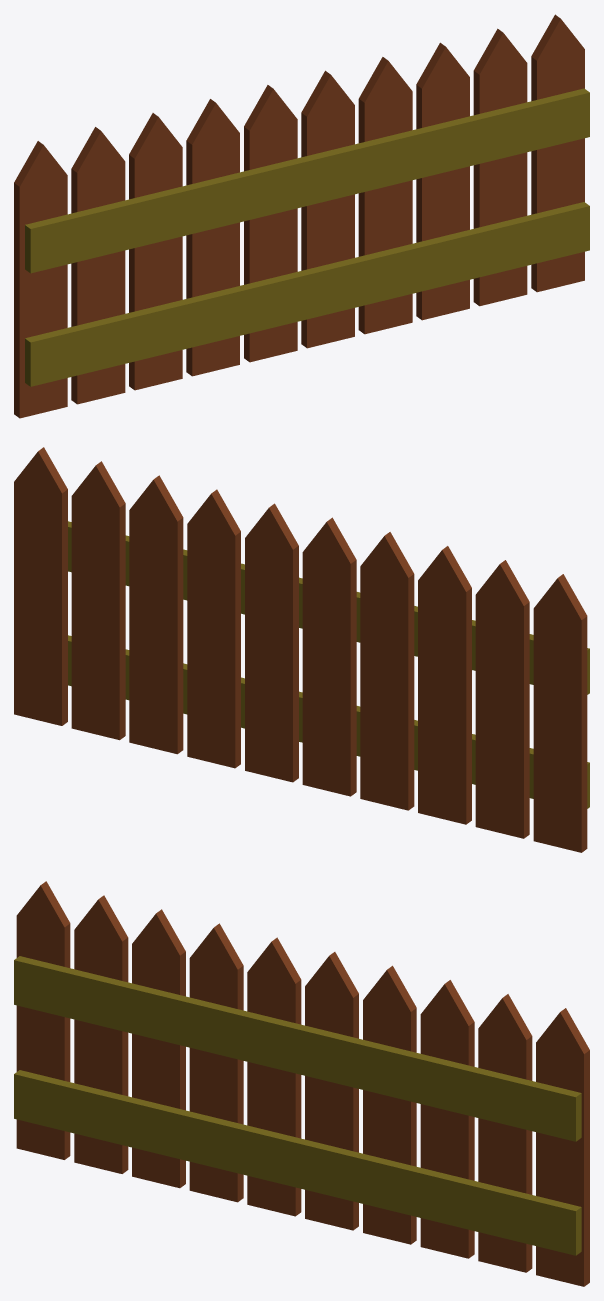
Rendered from wood_fence.obj.
3 renders of one model, top to bottom at view 1: azimuth 30°, elevation 25°; view 2: azimuth 150°, elevation 25°; view 3: azimuth 330°, elevation 25°, orthographic.
Visible parts, largest first — view 1: Cube wood_fence_model group45, wood_fence_model group45 Cube_001 Cube_001__1_; view 2: Cube wood_fence_model group45, wood_fence_model group45 Cube_001 Cube_001__1_; view 3: Cube wood_fence_model group45, wood_fence_model group45 Cube_001 Cube_001__1_.
Part boxes in pixels (bbox=[...]): Cube wood_fence_model group45: bbox=[14, 14, 584, 418]; wood_fence_model group45 Cube_001 Cube_001__1_: bbox=[25, 88, 589, 386]; Cube wood_fence_model group45: bbox=[14, 447, 587, 852]; wood_fence_model group45 Cube_001 Cube_001__1_: bbox=[68, 521, 589, 808]; Cube wood_fence_model group45: bbox=[16, 881, 589, 1286]; wood_fence_model group45 Cube_001 Cube_001__1_: bbox=[14, 956, 581, 1255].
Bounding box in the file's own units: 564 × 255 × 21.52.
